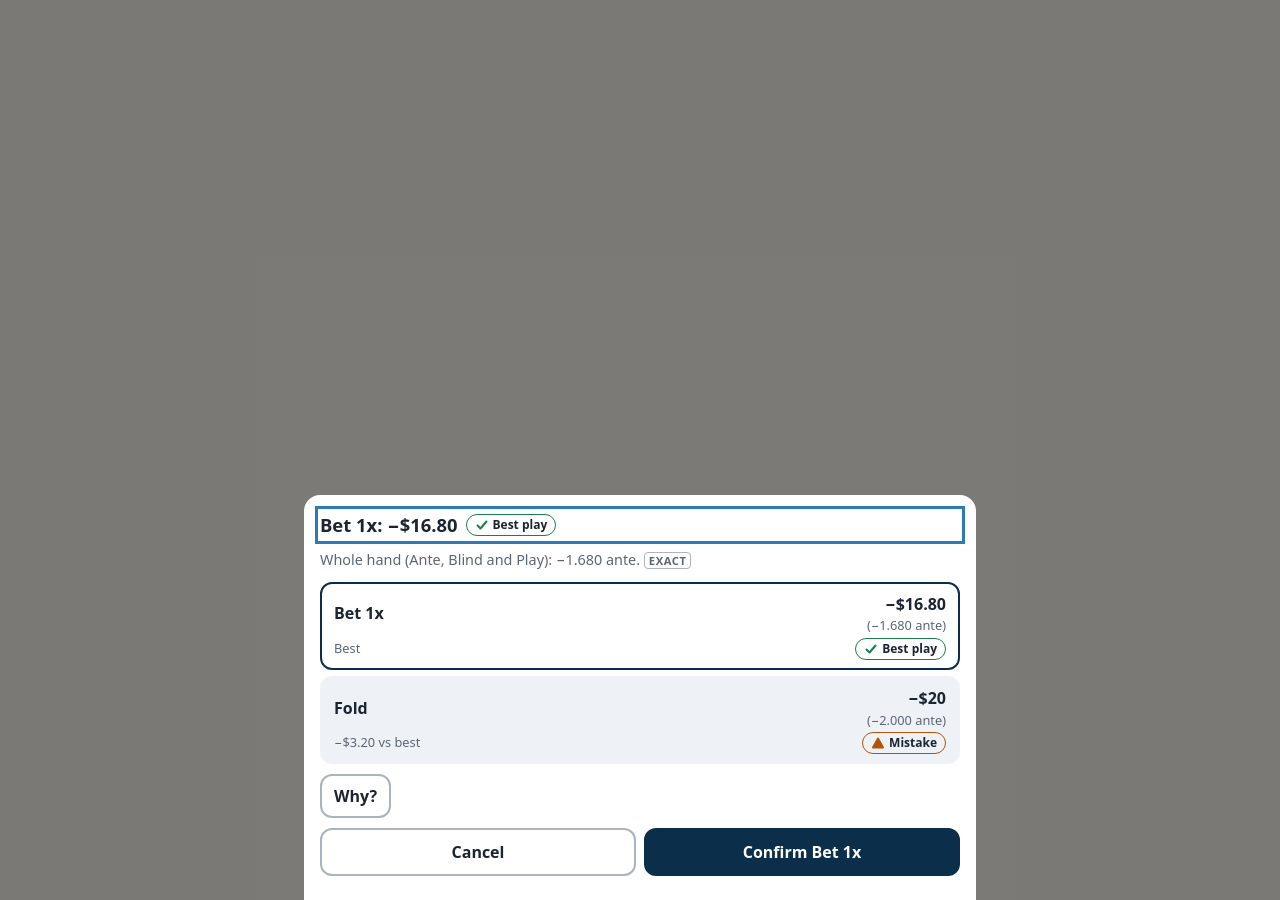
Test: EvSheet › Why? opens the rows with counts and the formula
Step 1. Click the button "Why?" → (356, 796), box [320, 774, 391, 818]
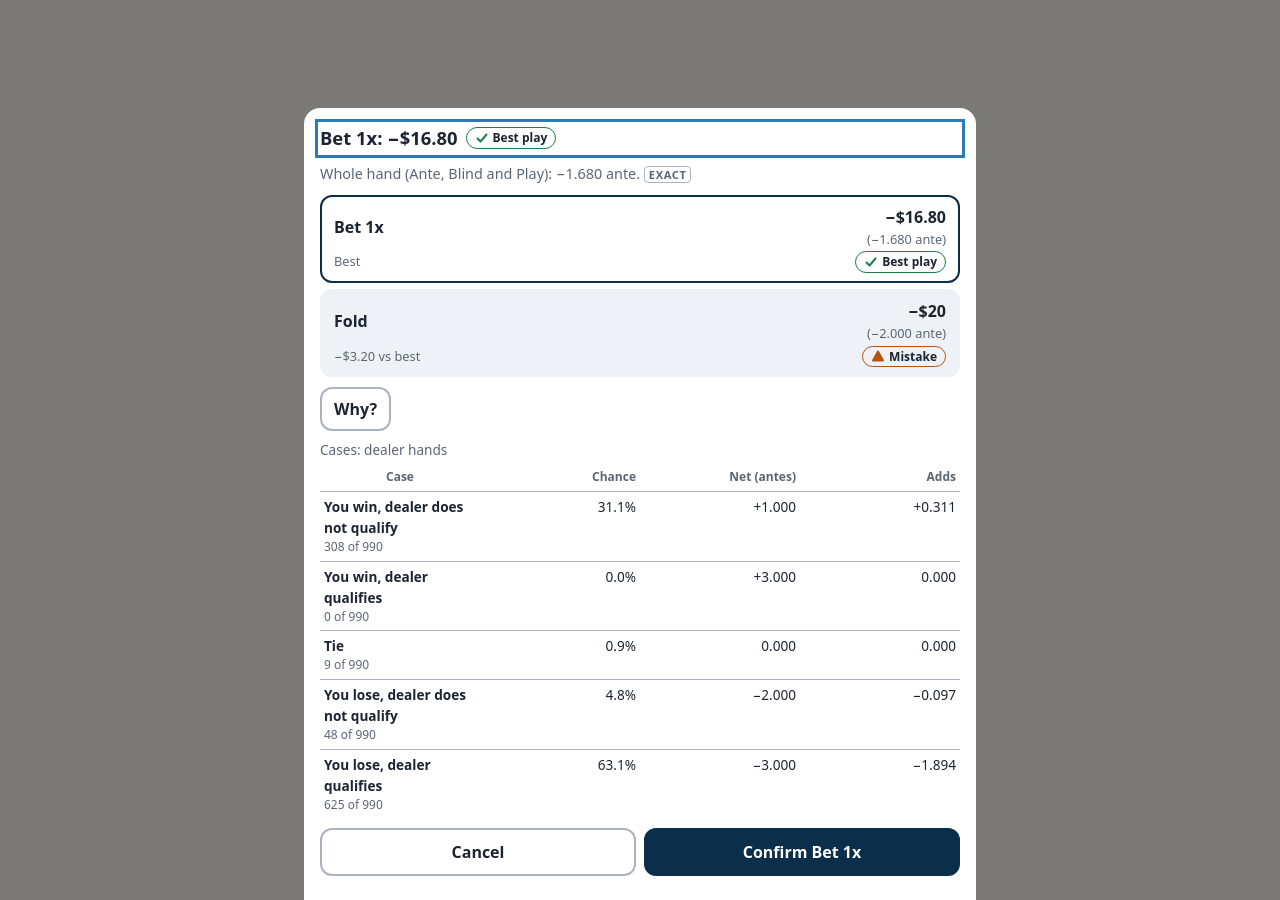
Expected: the element with test id "why-table" shows "308 of 990", [320, 439, 960, 840]
Expected: the element with test id "why-table" shows "625 of 990", [320, 439, 960, 840]
Expected: the number of rows is 6, [320, 464, 960, 491]; [320, 491, 960, 561]; [320, 561, 960, 631]; [320, 631, 960, 680]; [320, 680, 960, 749]; [320, 749, 960, 818]
